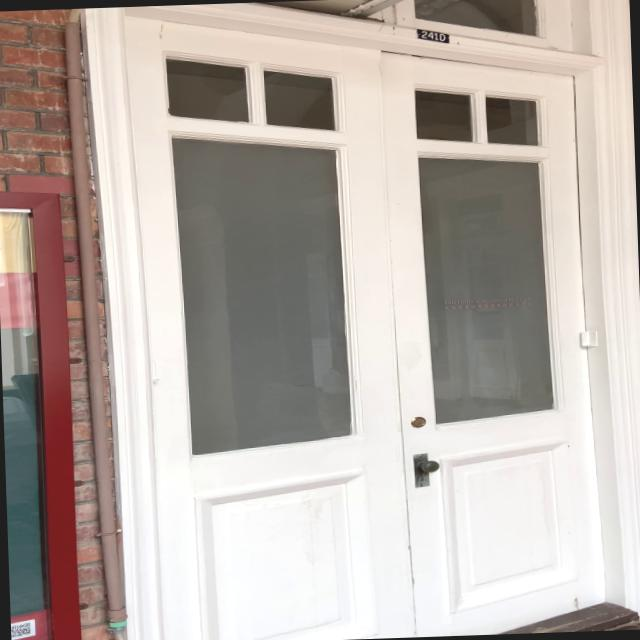room241d: (414, 26, 454, 48)
